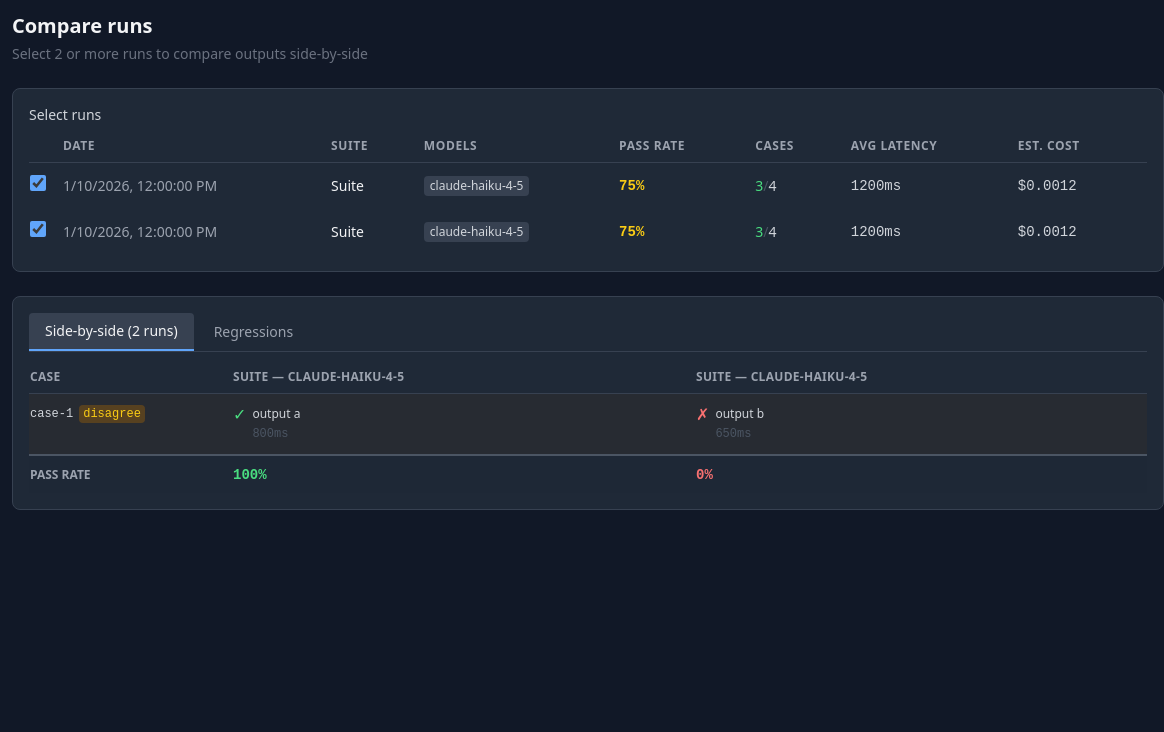
Test: Compare page › switches to the Regressions tab and renders the diff
Click the button "Regressions": (253, 332) [198,313,309,351]
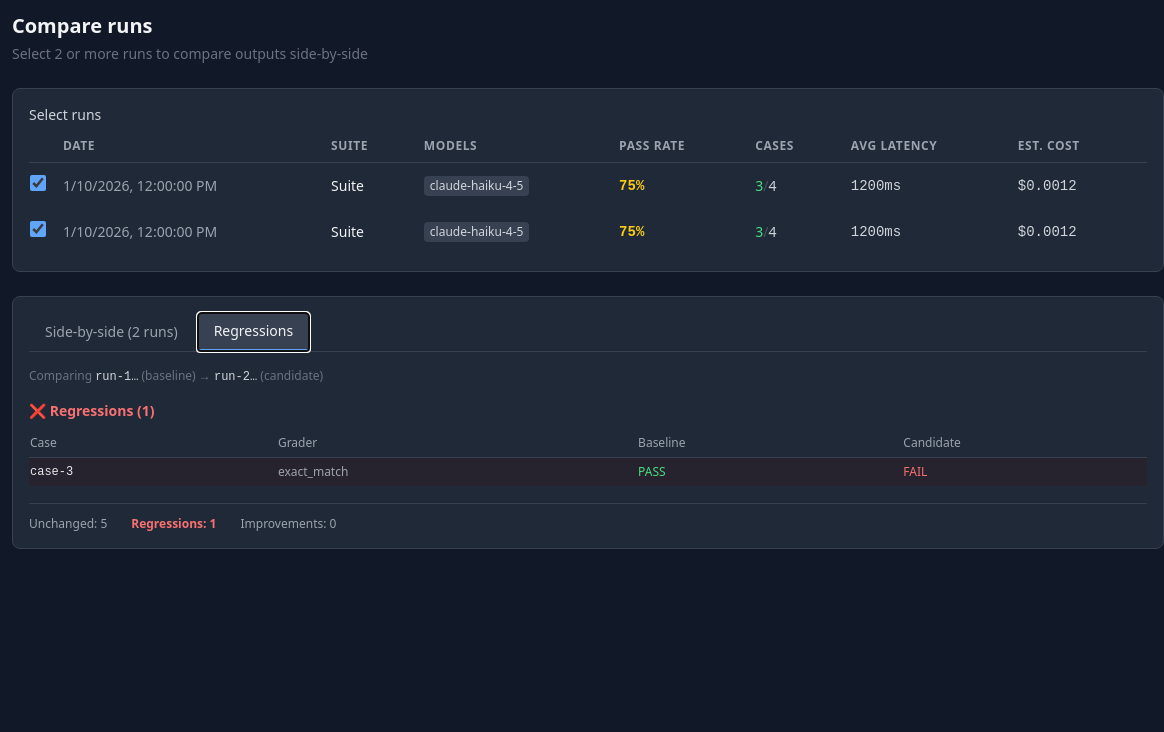
Now the heading "❌ Regressions (1)" is shown, box [29,401,154,420]
Now the text "Regressions: 1" is shown, box [131,516,216,532]
